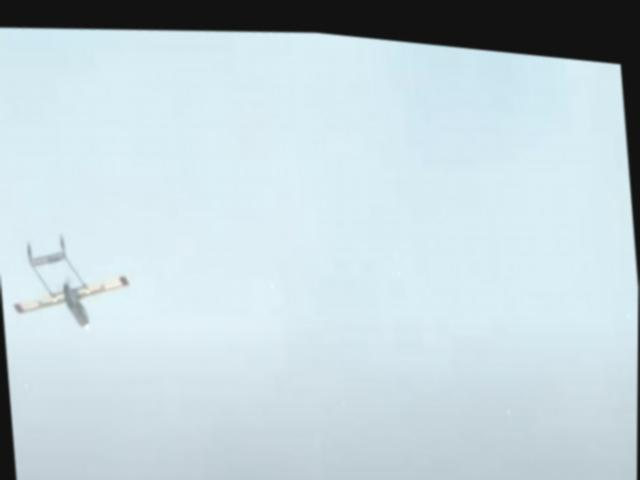iha: (4, 219, 144, 340)
